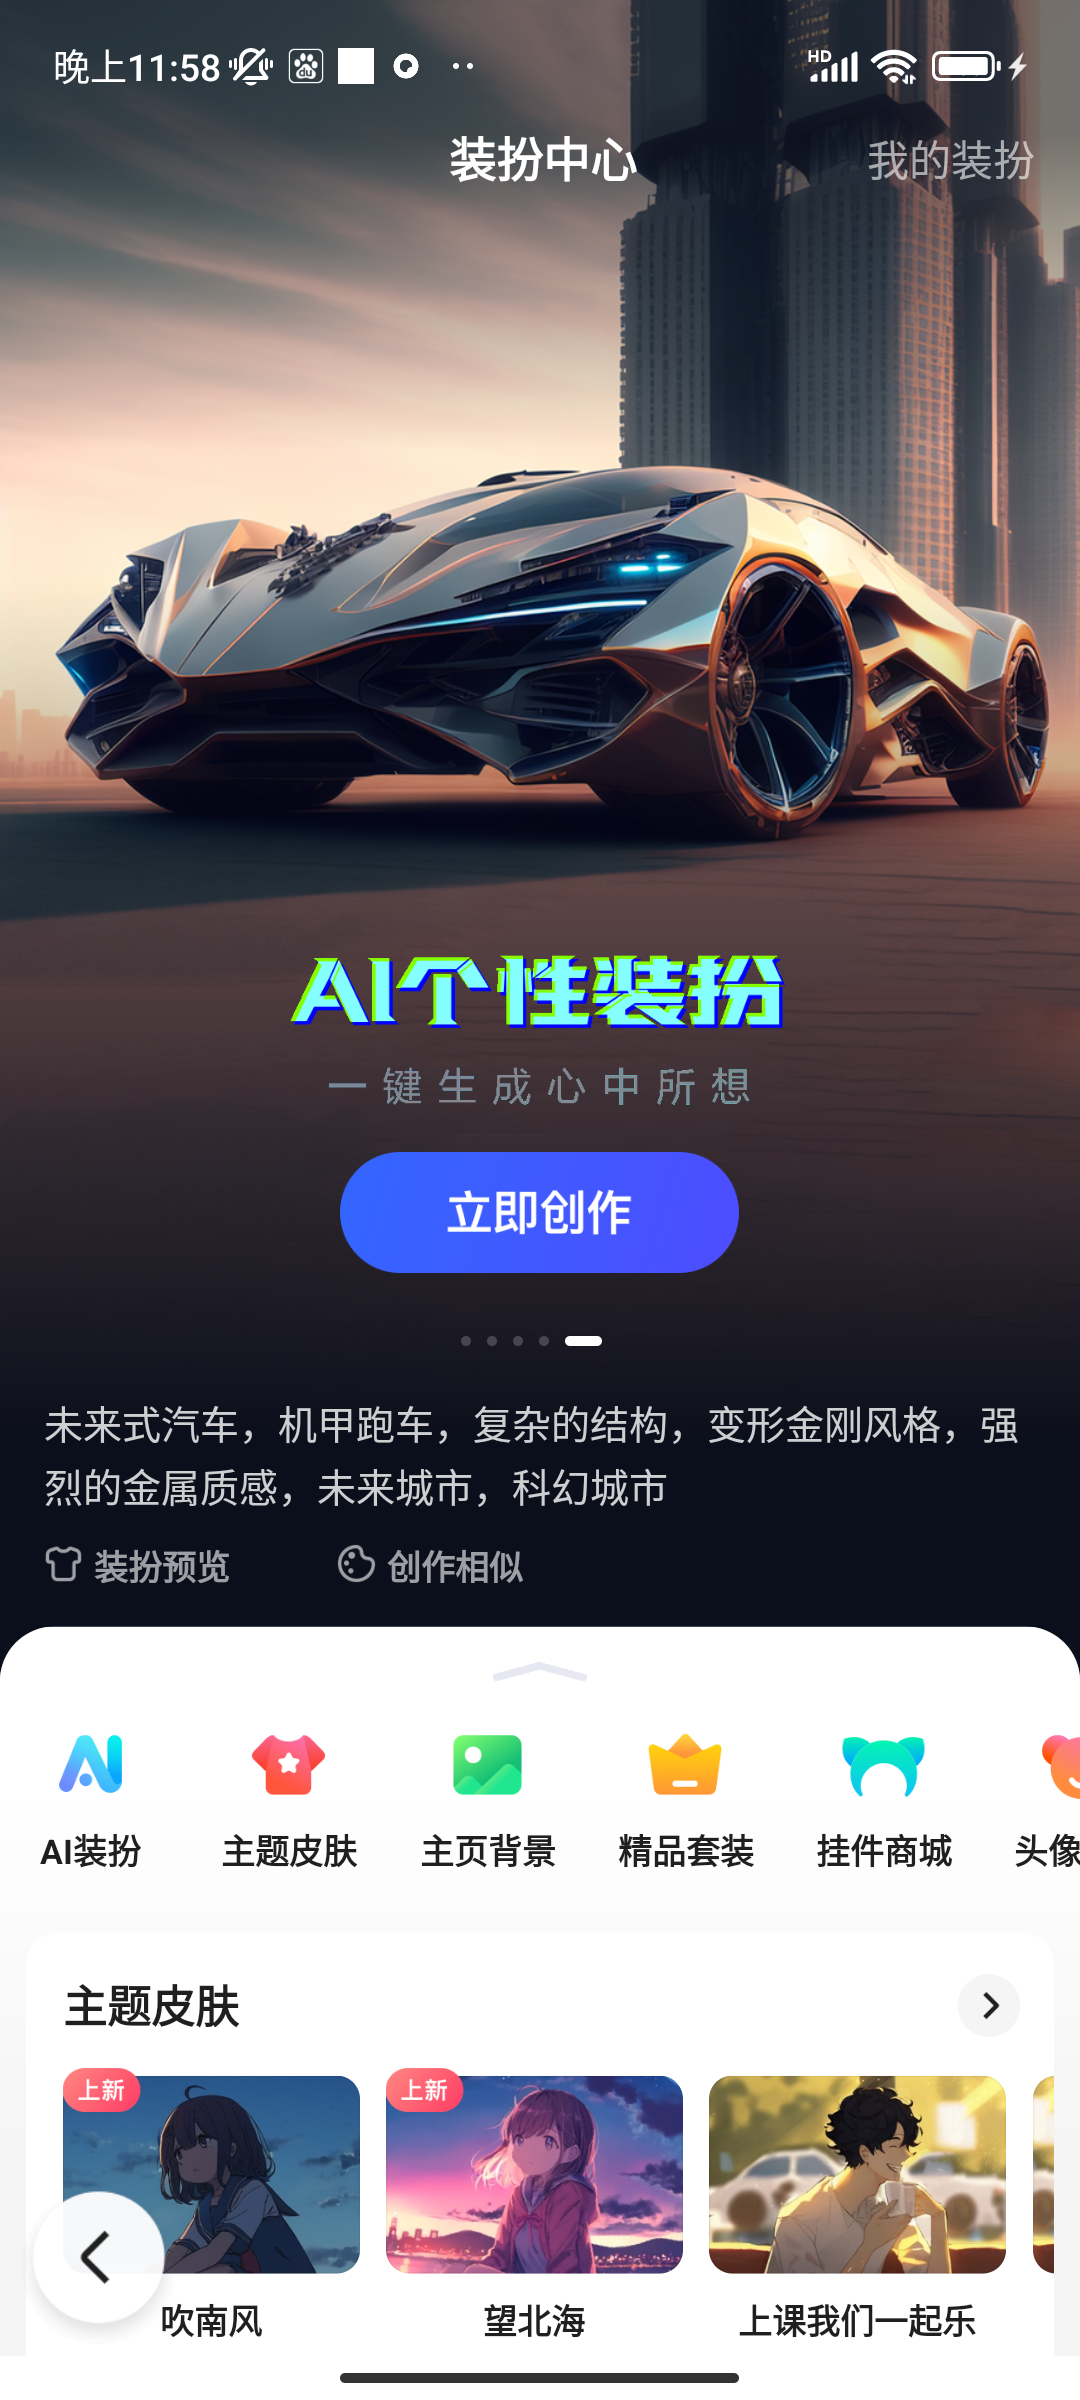ui_group: (5, 217, 1080, 1524)
